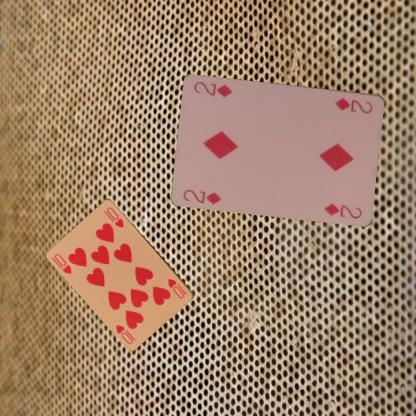10h: (166, 276, 188, 300), (52, 251, 73, 275)
2d: (332, 95, 375, 115), (180, 186, 223, 206)
